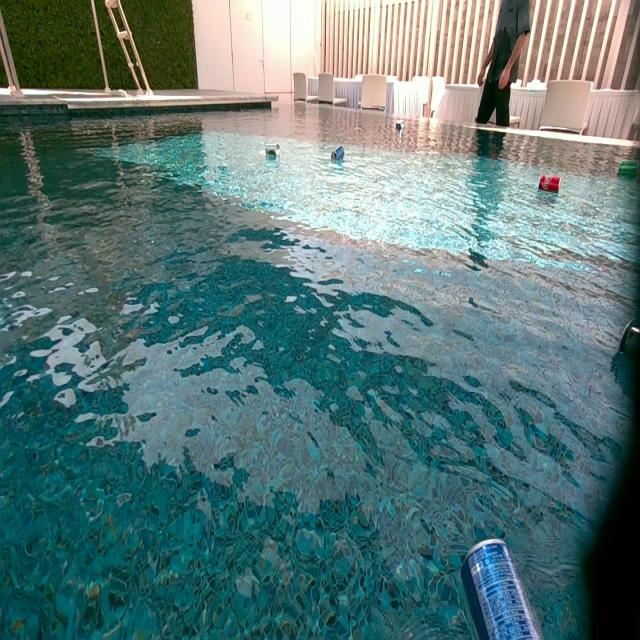Cans: (459, 535, 547, 637), (538, 176, 558, 193), (619, 160, 639, 174), (266, 142, 282, 158), (332, 145, 346, 161), (396, 122, 405, 130)
